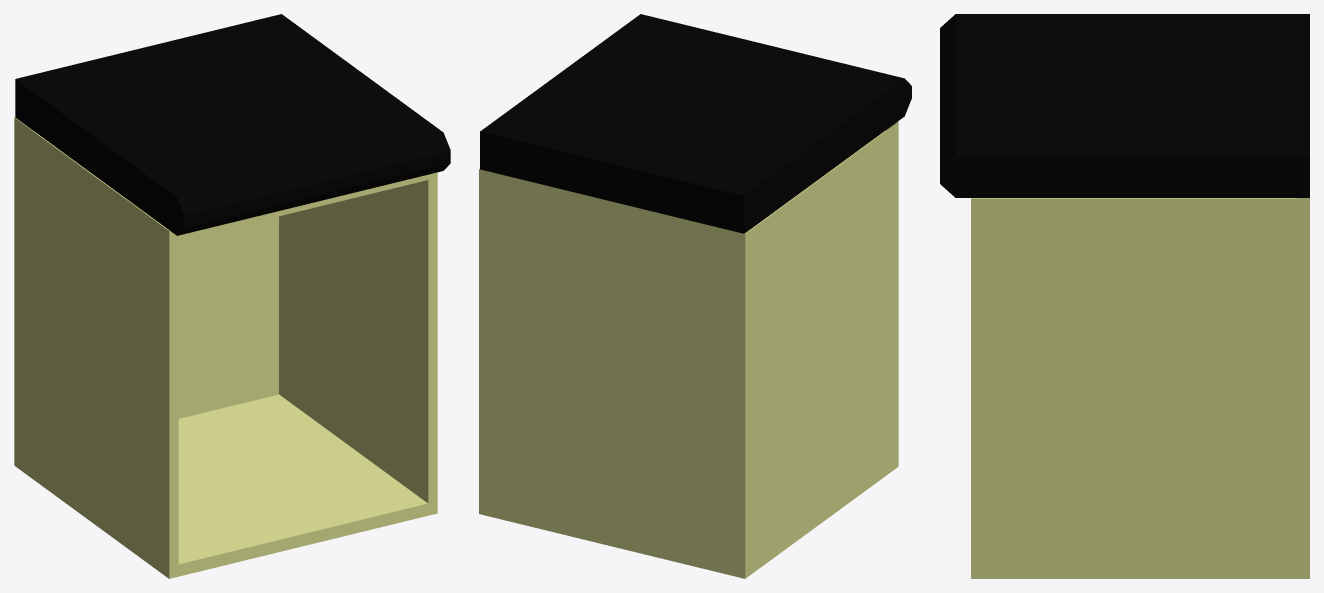
Rendered from Encimera.fbx.
3 renders of one model, left to right at view 1: azimuth 30°, elevation 25°; view 2: azimuth 150°, elevation 25°; view 3: azimuth 270°, elevation 25°, orthographic. The views are drawn at different scales.
Parts seen in each view (by area): view 1: Enzimera; view 2: Enzimera; view 3: Enzimera.
Part boxes in pixels (x1,y1,x2,y2): Enzimera: (14, 14, 450, 578); Enzimera: (479, 14, 911, 578); Enzimera: (940, 14, 1309, 578).
Size of the model in its own units: 200 by 275 by 218.
